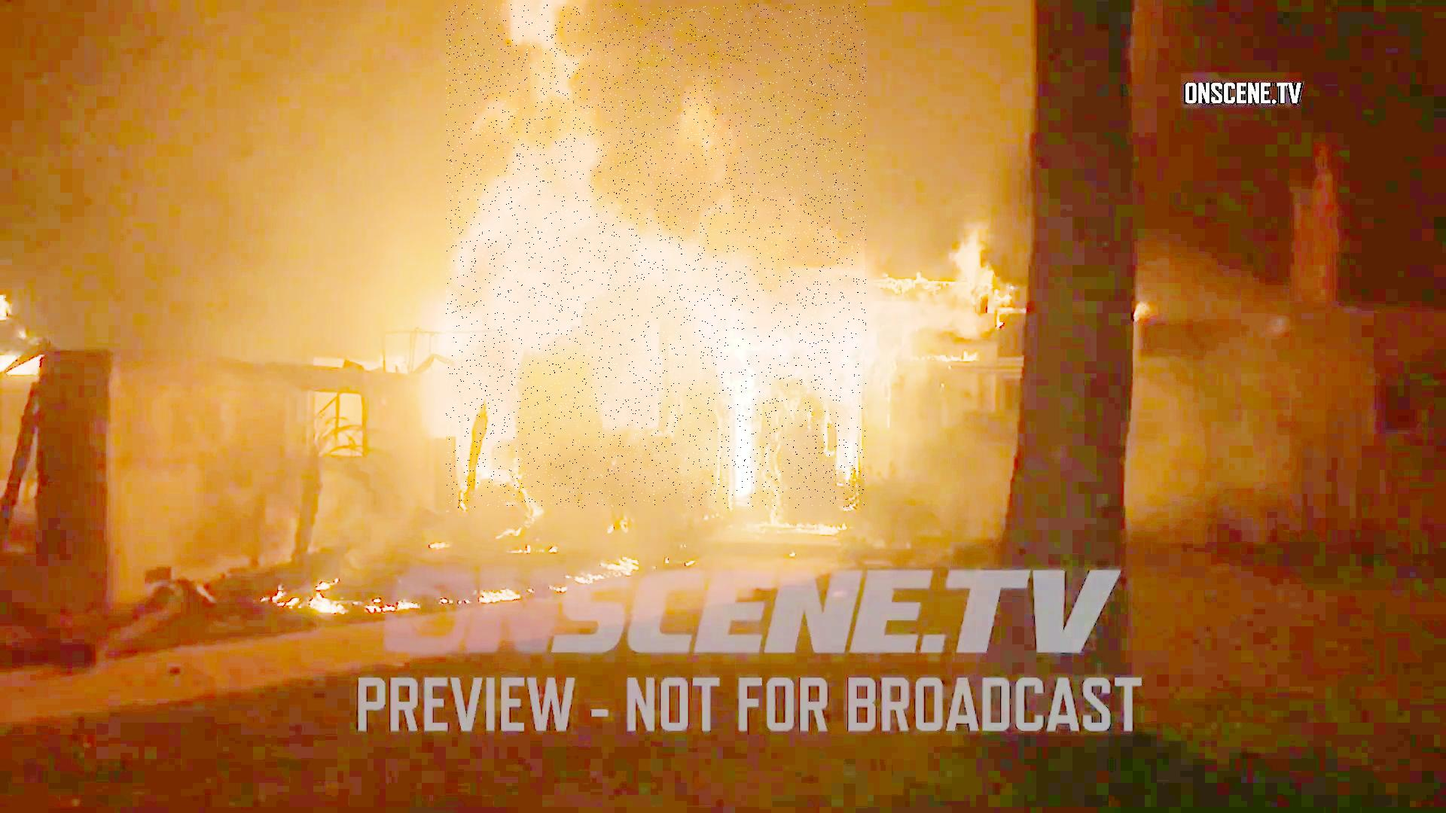fire: (447, 4, 867, 509)
